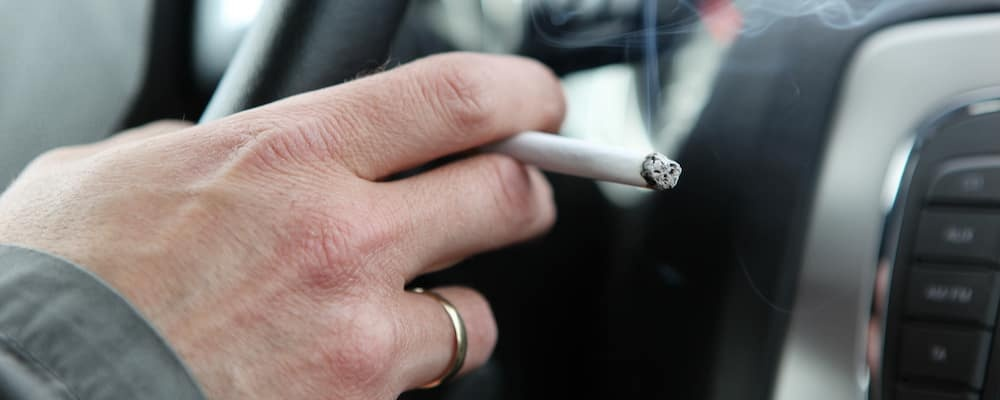sigaretta: (486, 115, 709, 194)
